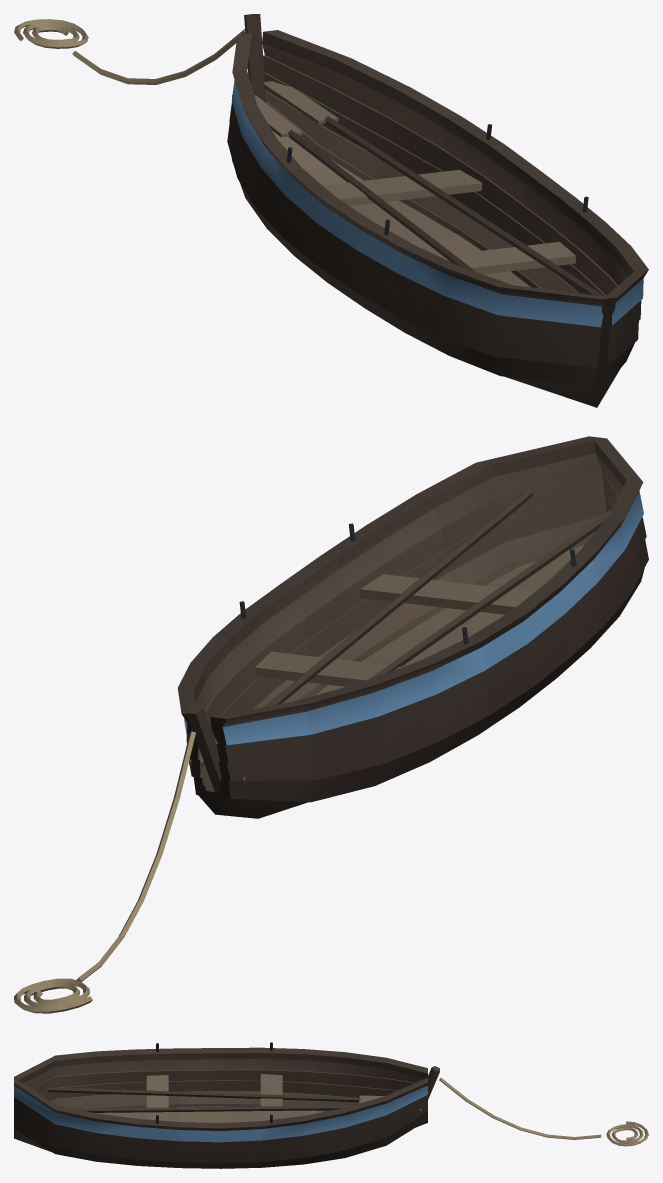
File: rowing_boat.glb
3 renders of one model, top to bottom at view 1: azimuth 30°, elevation 25°; view 2: azimuth 150°, elevation 25°; view 3: azimuth 270°, elevation 25°, orthographic. The views are drawn at different scales.
Parts seen in each view (by area): view 1: isl_rowing_boat; view 2: isl_rowing_boat; view 3: isl_rowing_boat.
Boxes of the visible parts, left/top/right/bottom form: isl_rowing_boat: left=14, top=14, right=648, bottom=407; isl_rowing_boat: left=14, top=436, right=648, bottom=1013; isl_rowing_boat: left=14, top=1042, right=648, bottom=1168.
Size of the model in its own units: 1.53 by 0.9073 by 6.31.
